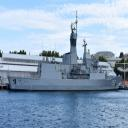Fragata: (8, 9, 124, 94)
